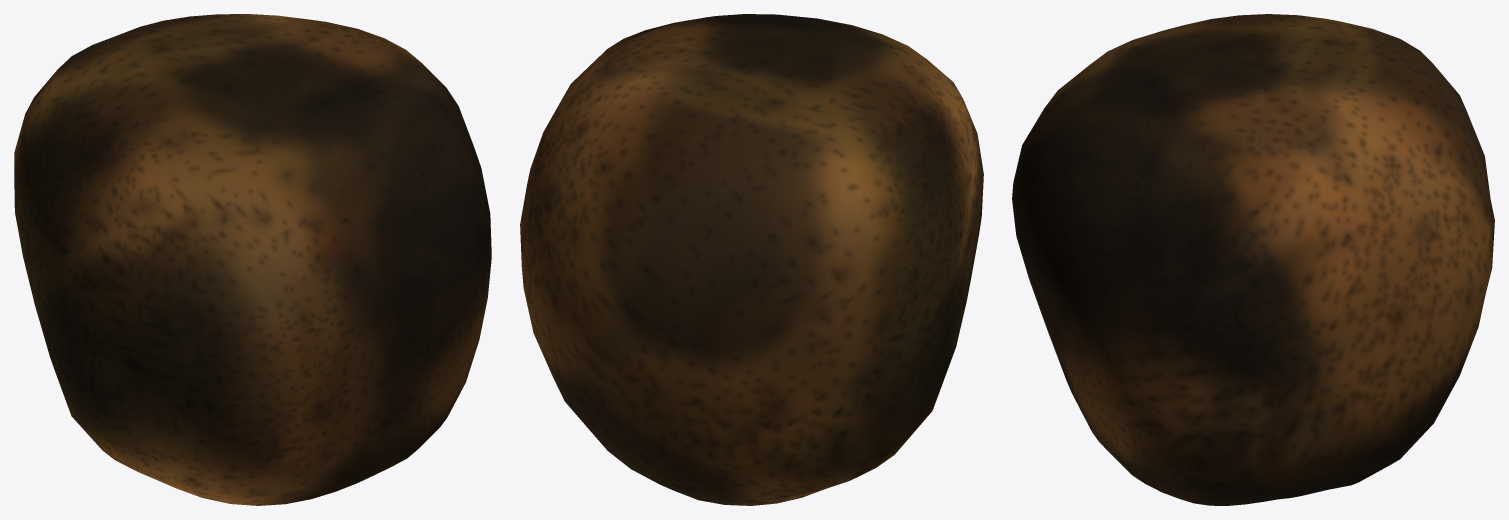
File: Violet Seed.fbx
3 renders of one model, left to right at view 1: azimuth 30°, elevation 25°; view 2: azimuth 150°, elevation 25°; view 3: azimuth 270°, elevation 25°, orthographic.
Parts seen in each view (by area): view 1: Cube.008; view 2: Cube.008; view 3: Cube.008.
Part boxes in pixels (box(x1,y1,x2,y2)): Cube.008: box(14, 14, 491, 505); Cube.008: box(520, 14, 983, 505); Cube.008: box(1012, 14, 1494, 505).
Bounding box in the file's own units: 168 × 168 × 178.
